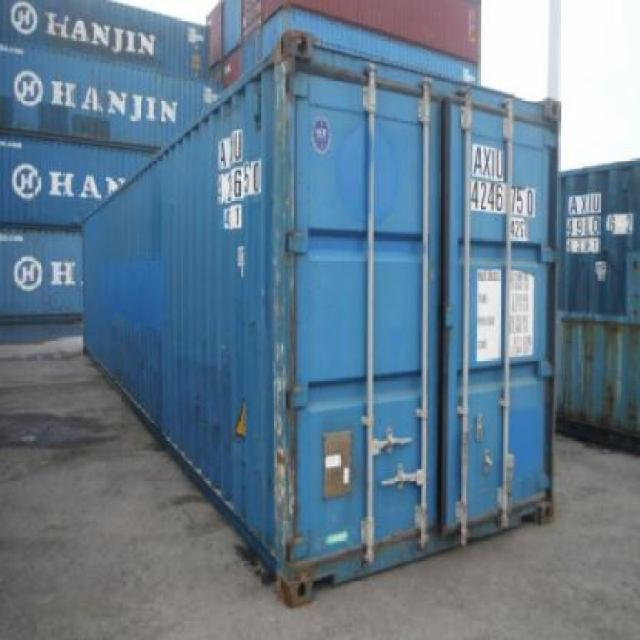ISO: (502, 216, 532, 243)
container_number: (468, 144, 542, 213)
